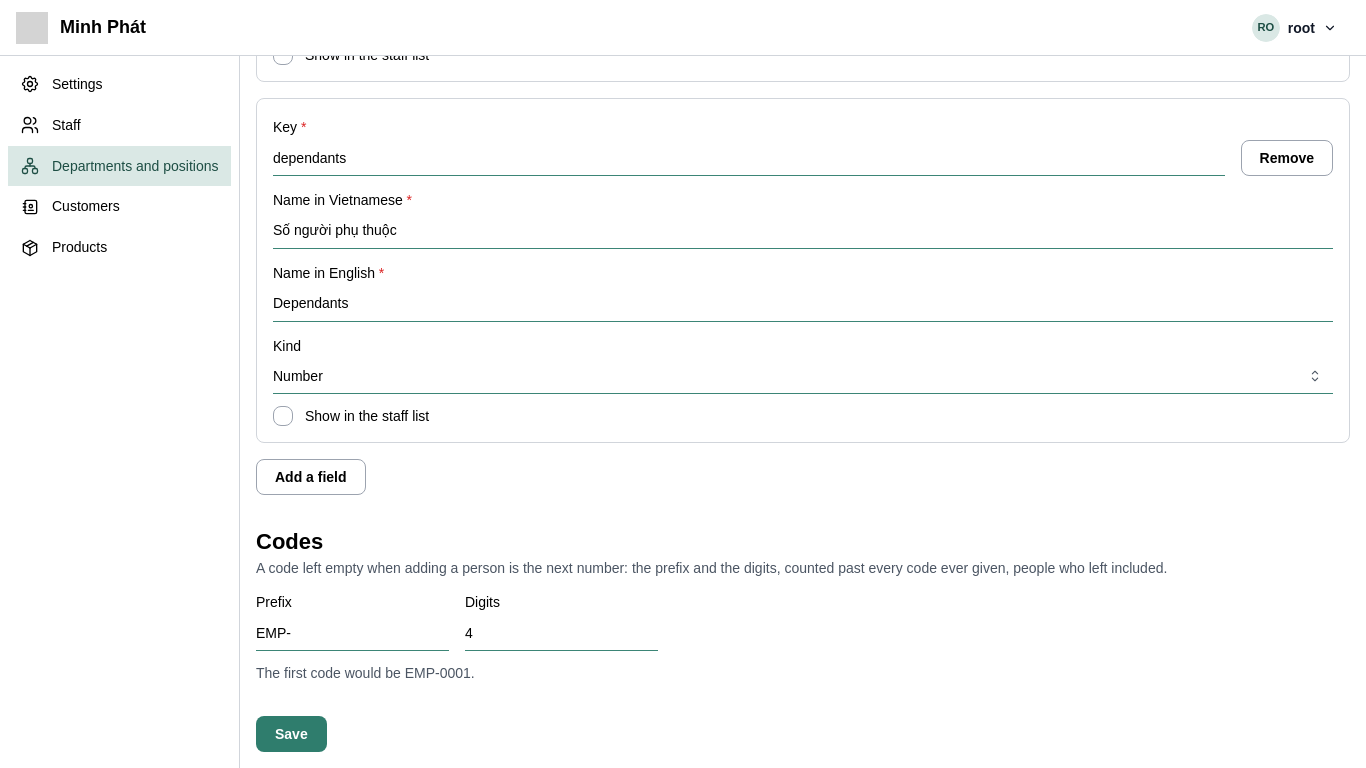
the numbering › The root sets the prefix and the digits, sees the first code they give, and a numbering the BFF would refuse is said and not sent
(page scrolled)
Expected: the text "The first code would be EMP-0001." is shown, [256, 665, 475, 681]
Replace the text in the field labelled "Prefix" with "nv" at (352,633), box [256, 615, 449, 651]
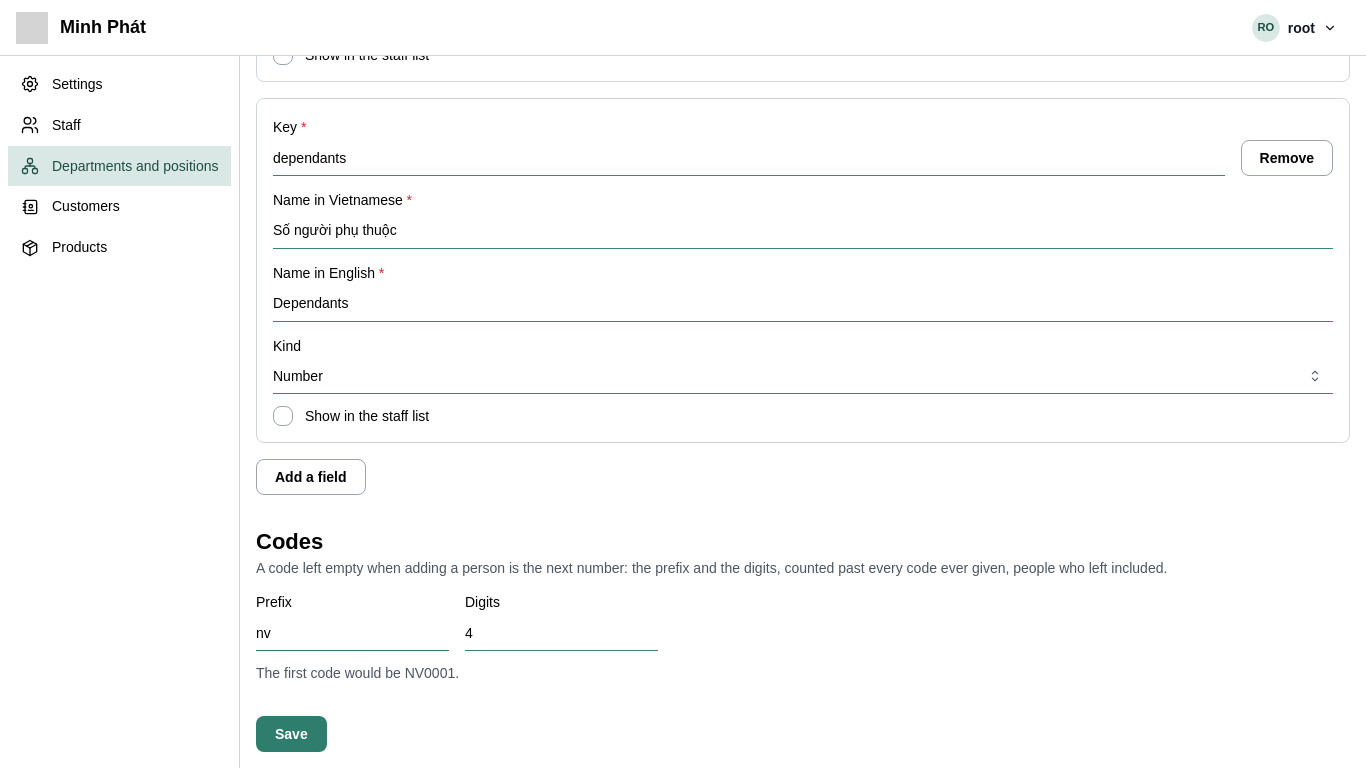
Clear the field labelled "Digits" at (562,633), box [465, 615, 658, 651]
(page scrolled)
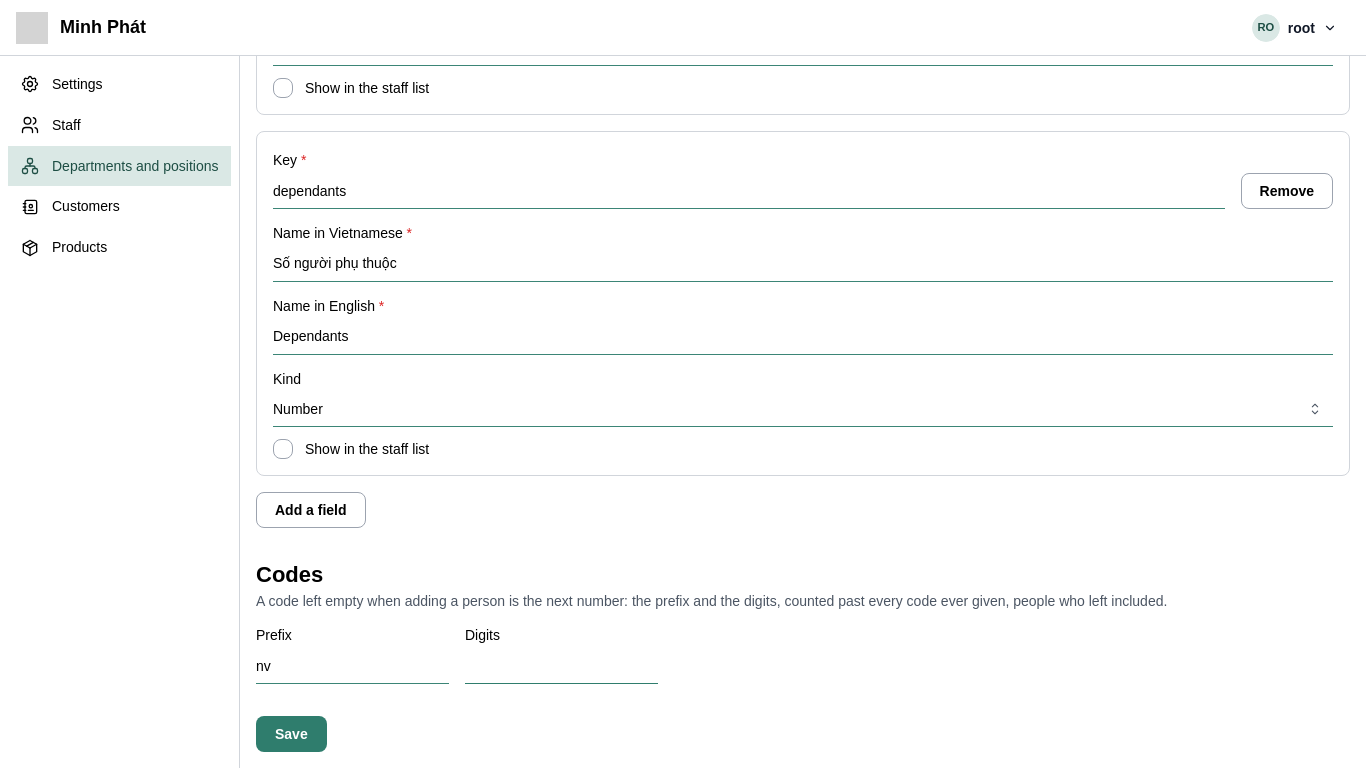
Type "0" into the field labelled "Digits" at (562,666), box [465, 648, 658, 684]
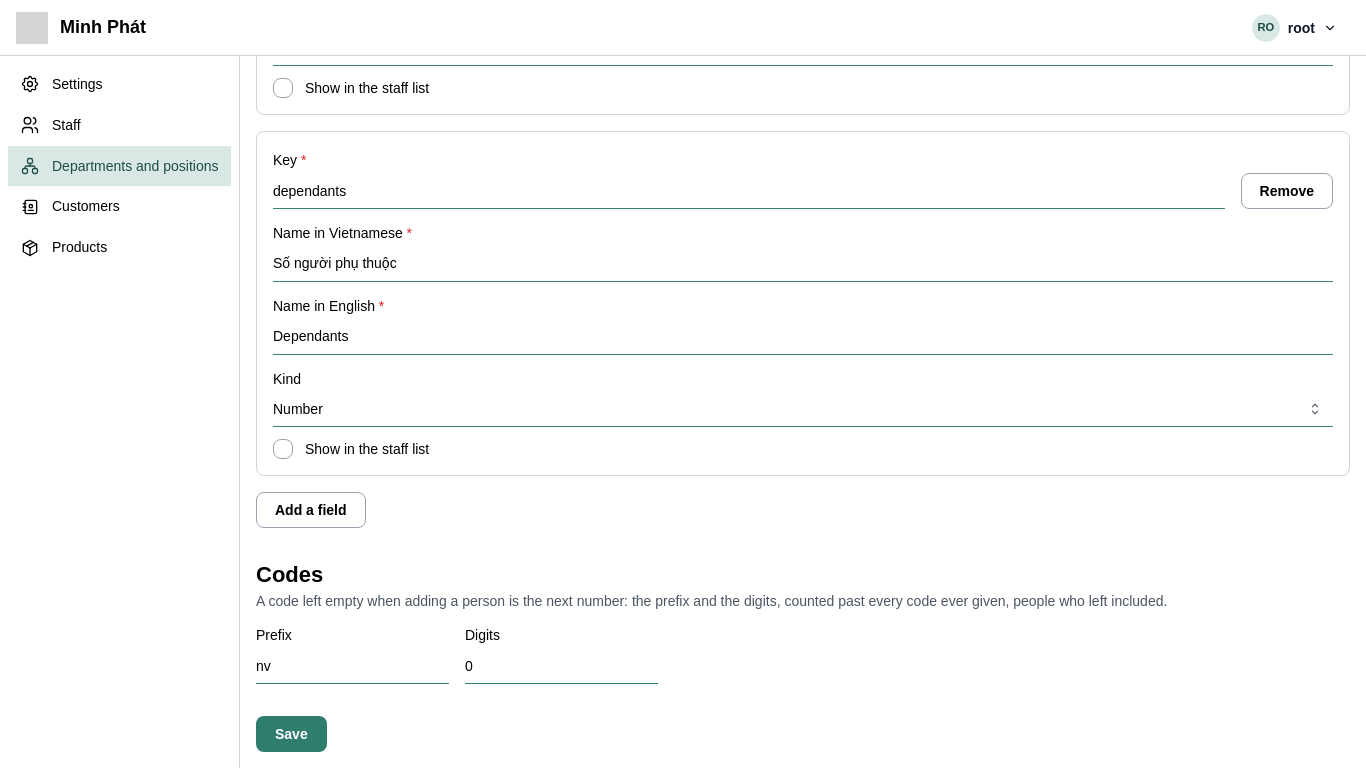
Expected: the text "The first code would be" is not shown
Click the button "Save" at (291,734), box [256, 716, 327, 752]
(page scrolled)
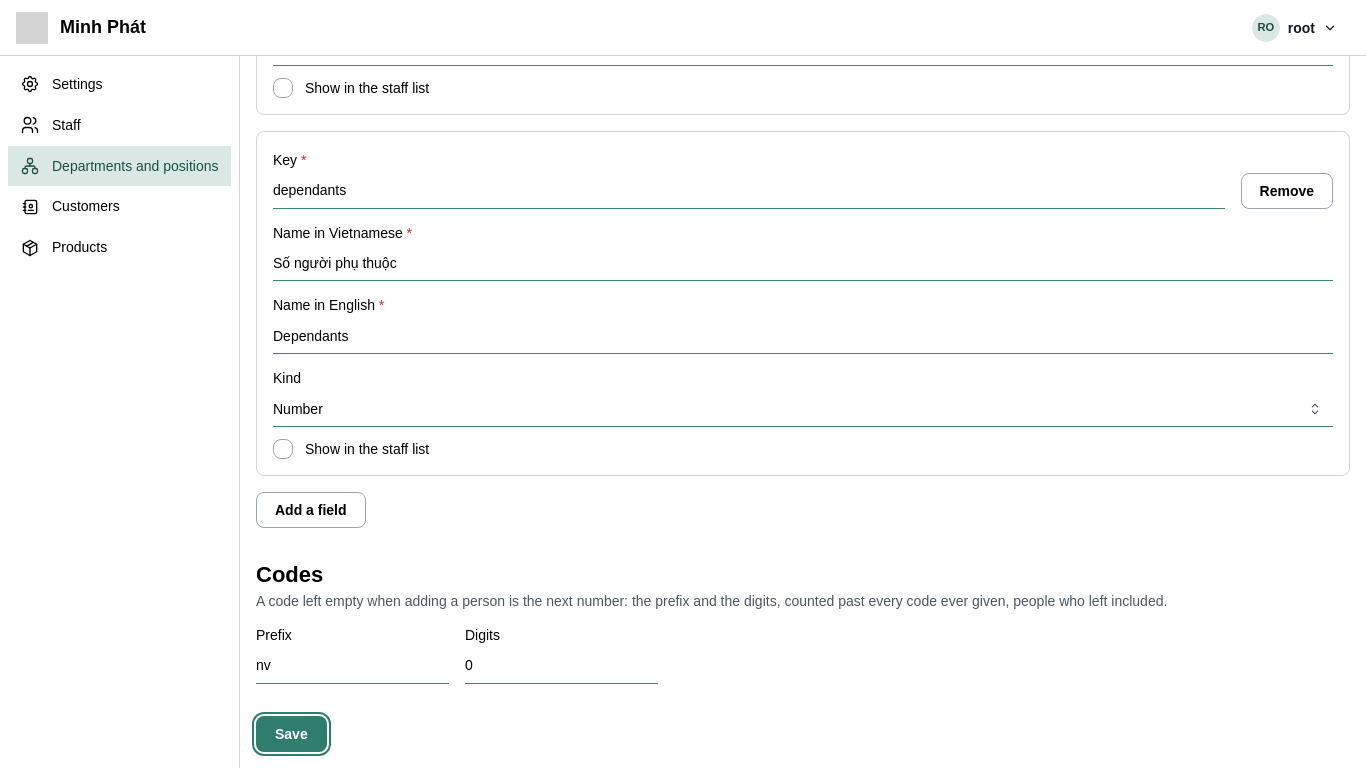
Replace the text in the field labelled "Digits" with "3" at (562,666), box [465, 648, 658, 684]
(page scrolled)
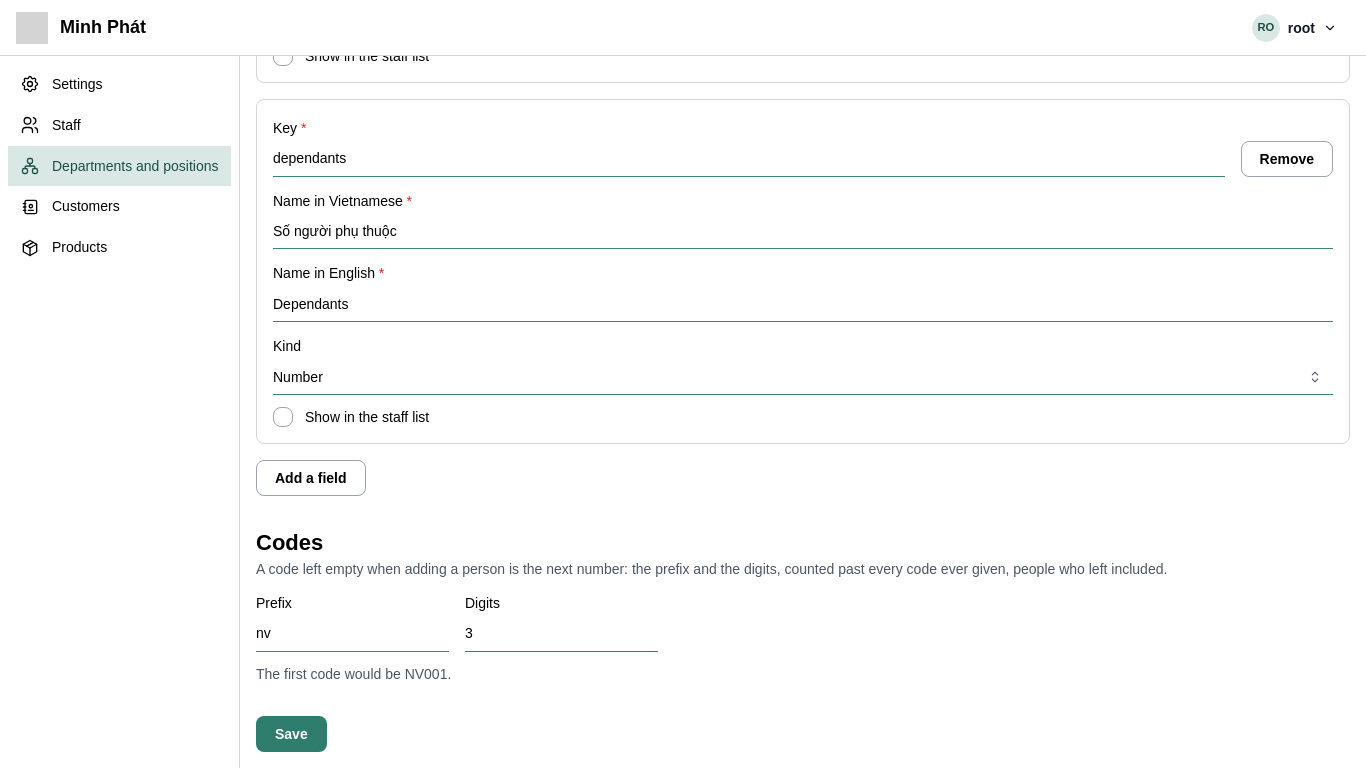
Expected: the text "The first code would be NV001." is shown, [256, 666, 451, 682]
Click the button "Save" at (291,734), box [256, 716, 327, 752]
(page scrolled)
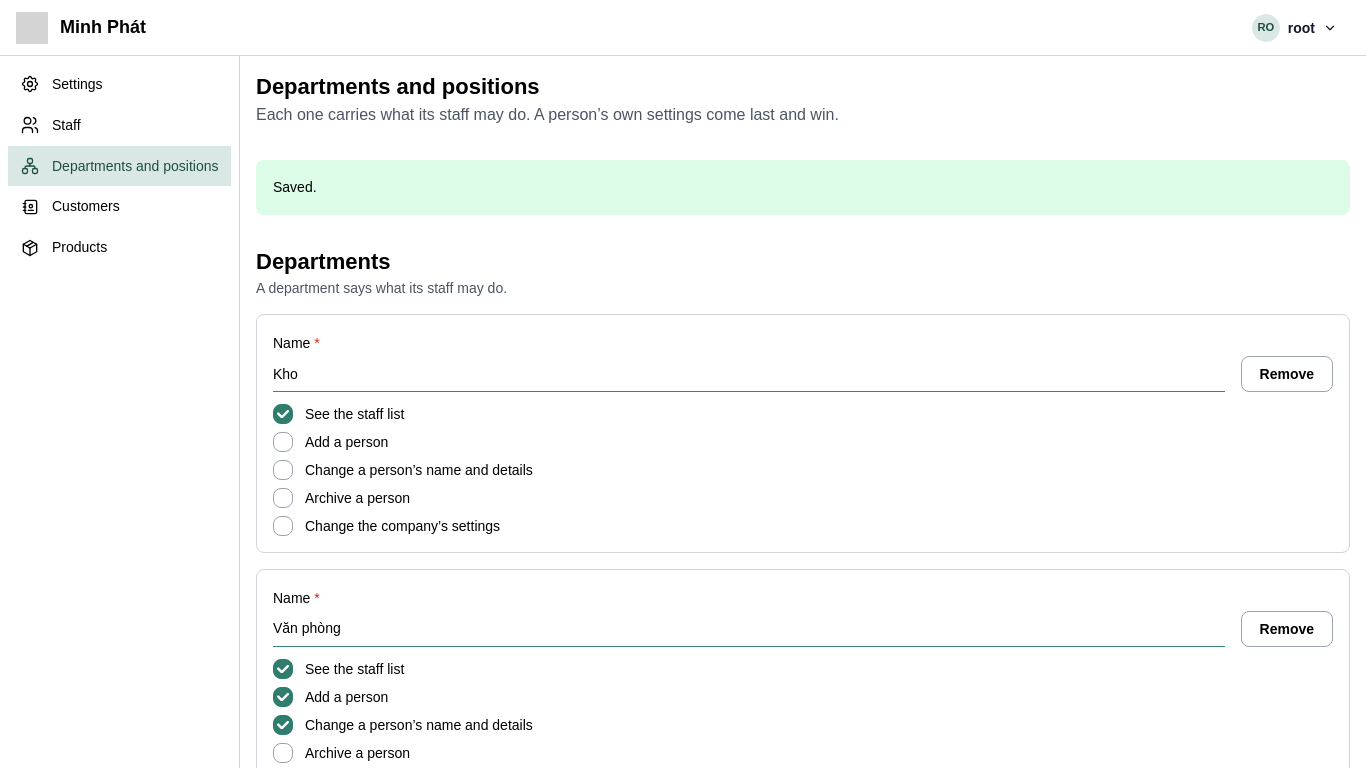
Expected: the text "Saved." is shown, [273, 179, 317, 195]
